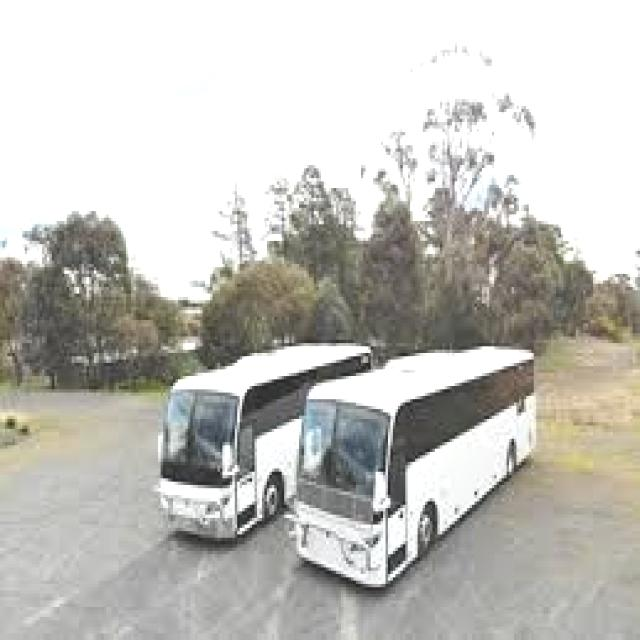bus: (281, 324, 562, 610), (128, 331, 302, 555)
